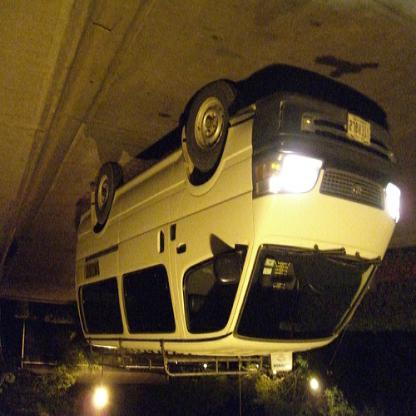car: (76, 79, 402, 379)
